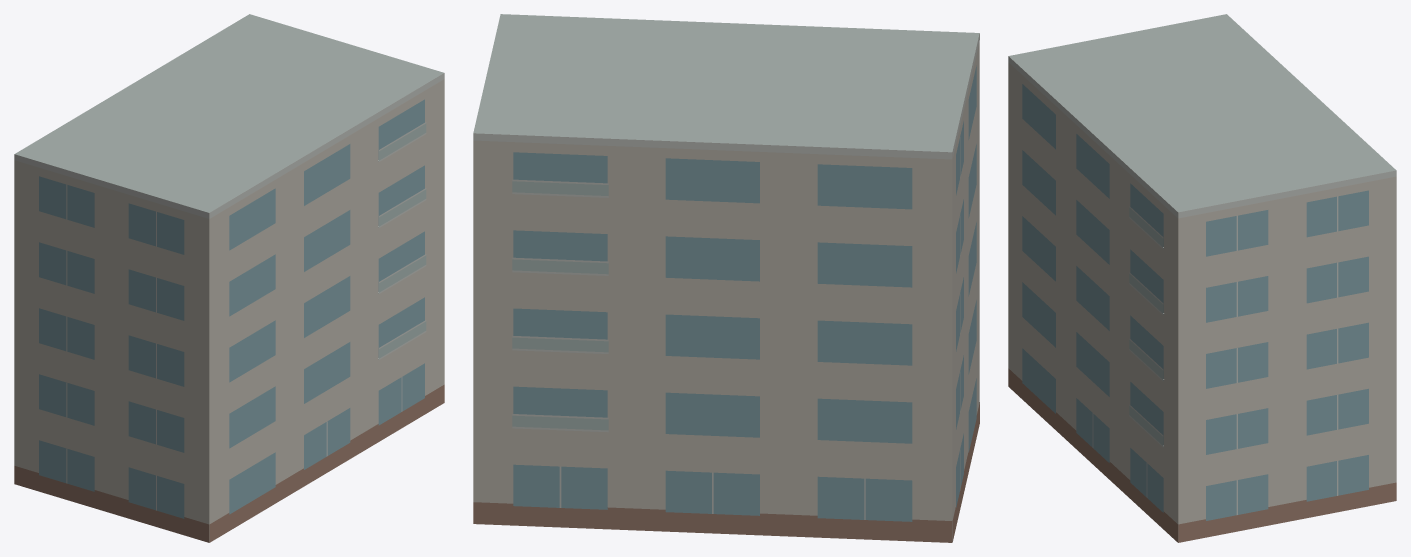
The model's file is survey-upis-32707204.glb.
The picture shows the model from 3 angles, left to right: view 1: azimuth 30°, elevation 25°; view 2: azimuth 150°, elevation 25°; view 3: azimuth 270°, elevation 25°; orthographic projection. The views are drawn at different scales.
Visible parts, largest first — view 1: survey-upis-32707204.tmp; view 2: survey-upis-32707204.tmp; view 3: survey-upis-32707204.tmp.
Part boxes in pixels (box(x1,y1,x2,y2)): survey-upis-32707204.tmp: box(14, 14, 444, 542); survey-upis-32707204.tmp: box(473, 14, 979, 542); survey-upis-32707204.tmp: box(1008, 14, 1396, 542).
Size of the model in its own units: 17.14 by 13.3 by 14.17.
